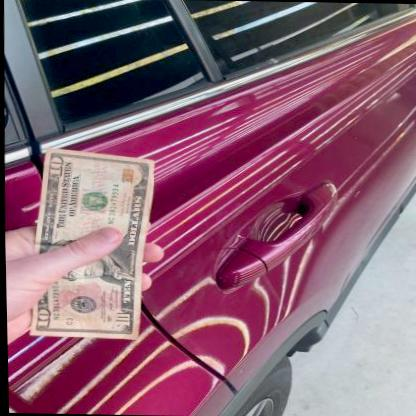ten-front: (30, 147, 155, 340)
